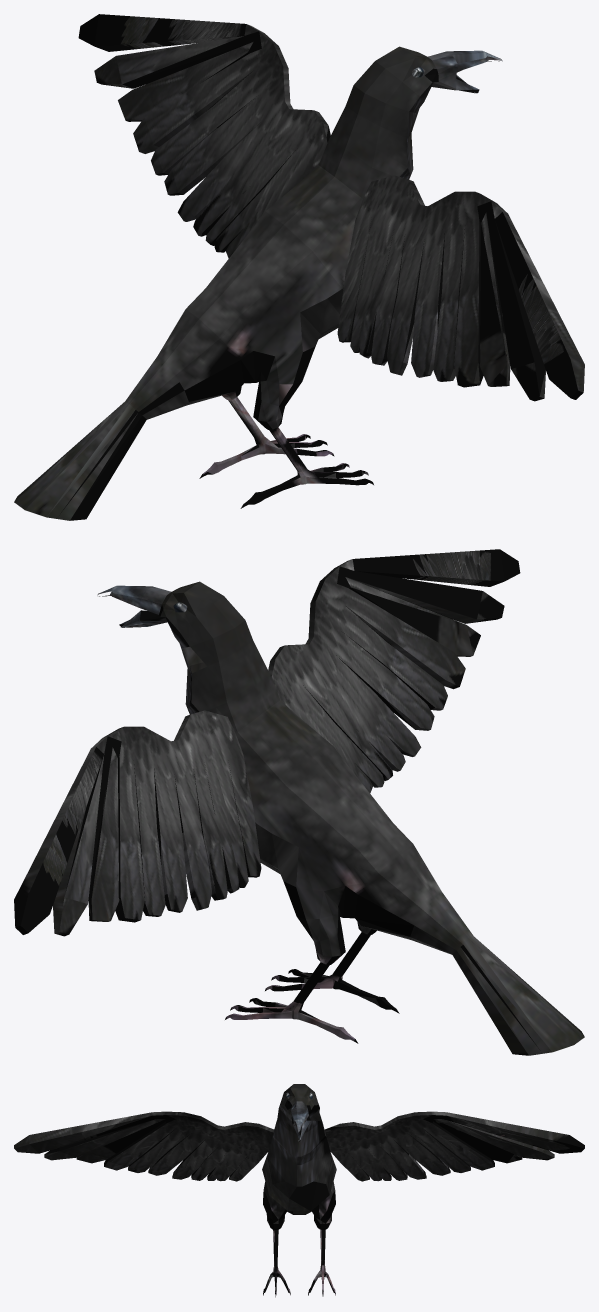
Rendered from crowTextureAnim_000000.obj.
3 views of the same model, one above another, from view 1: azimuth 30°, elevation 25°; view 2: azimuth 150°, elevation 25°; view 3: azimuth 270°, elevation 25° (orthographic). The views are drawn at different scales.
Parts seen in each view (by area): view 1: Cylinder.001, Cylinder.003, Cylinder.002; view 2: Cylinder.001, Cylinder.002, Cylinder.003; view 3: Cylinder.002, Cylinder.003, Cylinder.001.
Boxes of the visible parts, box(x1,y1,x2,y2) form: Cylinder.001: box(14, 46, 502, 520); Cylinder.003: box(337, 175, 584, 401); Cylinder.002: box(78, 14, 330, 258); Cylinder.001: box(97, 581, 584, 1055); Cylinder.002: box(14, 710, 261, 936); Cylinder.003: box(268, 549, 520, 793); Cylinder.002: box(324, 1111, 584, 1181); Cylinder.003: box(14, 1111, 274, 1181); Cylinder.001: box(262, 1084, 336, 1297).
Size of the model in its own units: 5.22 by 4.1 by 9.34.
